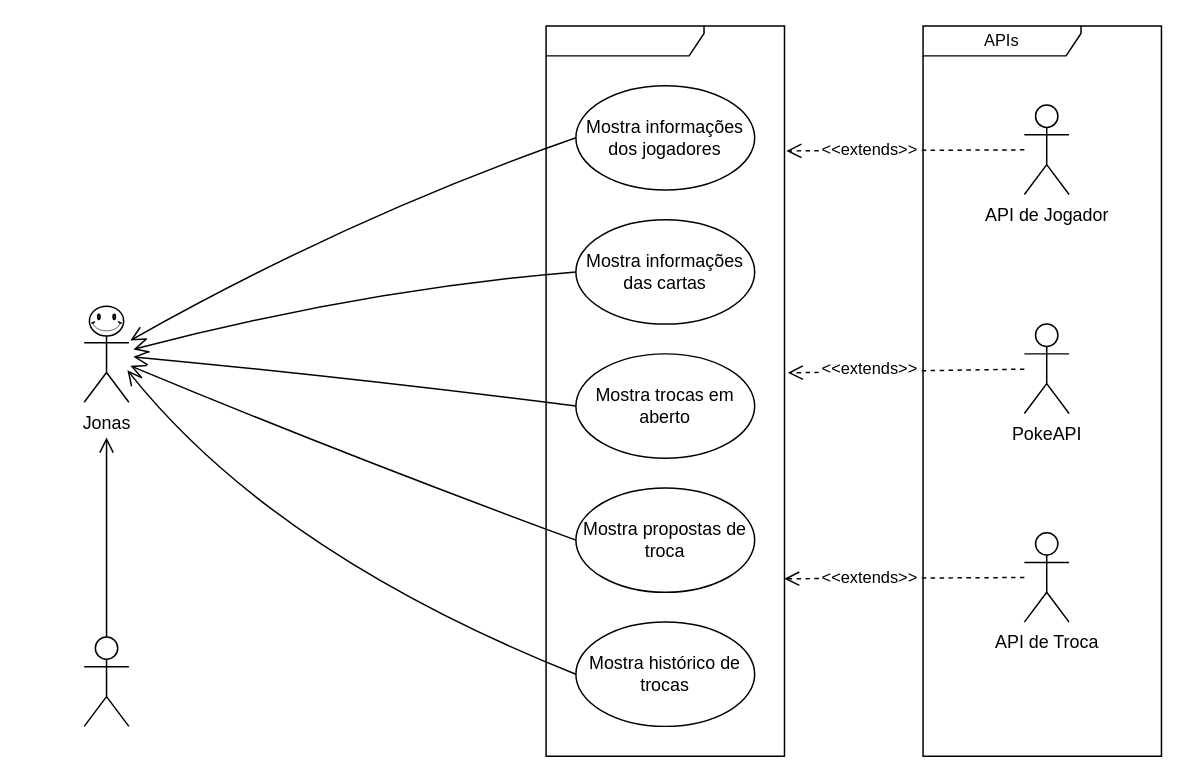
Image size: 1188x784. Some labels were removed from this diagram. The centre of each missing label's shape, as x and y in pixels:
"API de Autenticação" belongs at [106,680].
"UI" belongs at [664,390].
